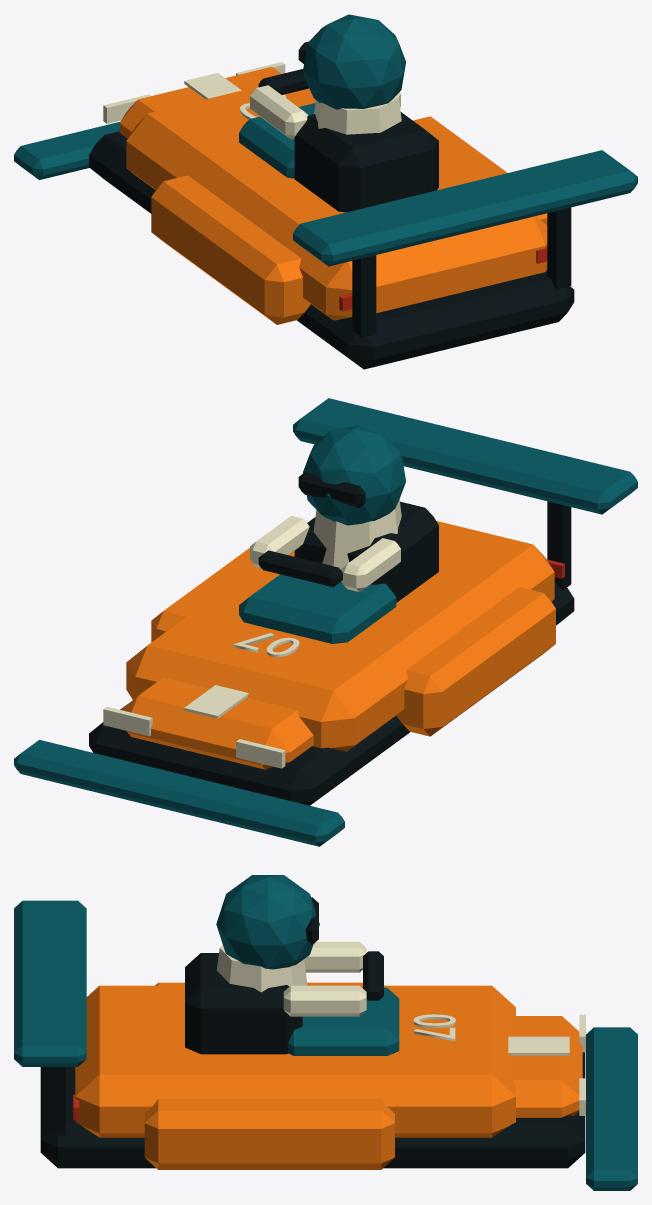
File: race_car.glb
3 renders of one model, top to bottom at view 1: azimuth 30°, elevation 25°; view 2: azimuth 150°, elevation 25°; view 3: azimuth 270°, elevation 25°, orthographic.
Visible parts, largest first — view 1: Body, Rear wing, Chassis, Side pod, Seat, Helmet, Front wing, Driver suit, Cockpit, Nose, Wing mount, Wing mount.001 (+5 smaller); view 2: Body, Rear wing, Front wing, Side pod, Chassis, Nose, Cockpit, Helmet, Seat, Driver suit, Side pod.001, Arms (+8 smaller); view 3: Body, Side pod.001, Chassis, Rear wing, Front wing, Seat, Helmet, Nose, Cockpit, Arms.001, Driver suit, Arms (+4 smaller).
Boxes of the visible parts, bbox=[...] form: Body: bbox=[126, 86, 547, 320]; Rear wing: bbox=[293, 150, 637, 266]; Chassis: bbox=[89, 131, 574, 369]; Side pod: bbox=[151, 175, 310, 324]; Seat: bbox=[294, 112, 438, 212]; Helmet: bbox=[303, 14, 405, 109]; Front wing: bbox=[14, 122, 119, 179]; Driver suit: bbox=[314, 94, 401, 134]; Cockpit: bbox=[239, 103, 315, 178]; Nose: bbox=[119, 67, 281, 138]; Wing mount: bbox=[352, 255, 376, 337]; Wing mount.001: bbox=[547, 207, 571, 289]; Body: bbox=[126, 521, 554, 751]; Rear wing: bbox=[293, 398, 637, 514]; Front wing: bbox=[14, 740, 344, 846]; Side pod: bbox=[396, 587, 555, 736]; Chassis: bbox=[89, 582, 574, 805]; Nose: bbox=[121, 677, 313, 769]; Cockpit: bbox=[239, 574, 396, 643]; Helmet: bbox=[303, 425, 405, 525]; Seat: bbox=[294, 501, 438, 602]; Driver suit: bbox=[313, 499, 401, 569]; Side pod.001: bbox=[151, 548, 255, 642]; Arms: bbox=[341, 538, 400, 592]; Body: bbox=[75, 985, 515, 1137]; Side pod.001: bbox=[144, 1098, 394, 1169]; Chassis: bbox=[40, 1052, 585, 1168]; Rear wing: bbox=[14, 900, 86, 1066]; Front wing: bbox=[586, 1027, 637, 1190]; Seat: bbox=[185, 953, 302, 1054]; Helmet: bbox=[216, 875, 319, 969]; Nose: bbox=[511, 1016, 582, 1117]; Cockpit: bbox=[288, 987, 399, 1055]; Arms.001: bbox=[283, 985, 366, 1016]; Driver suit: bbox=[216, 945, 307, 992]; Arms: bbox=[304, 941, 366, 972].
Bounding box in the file's own units: 2.08 × 1.56 × 3.61.
